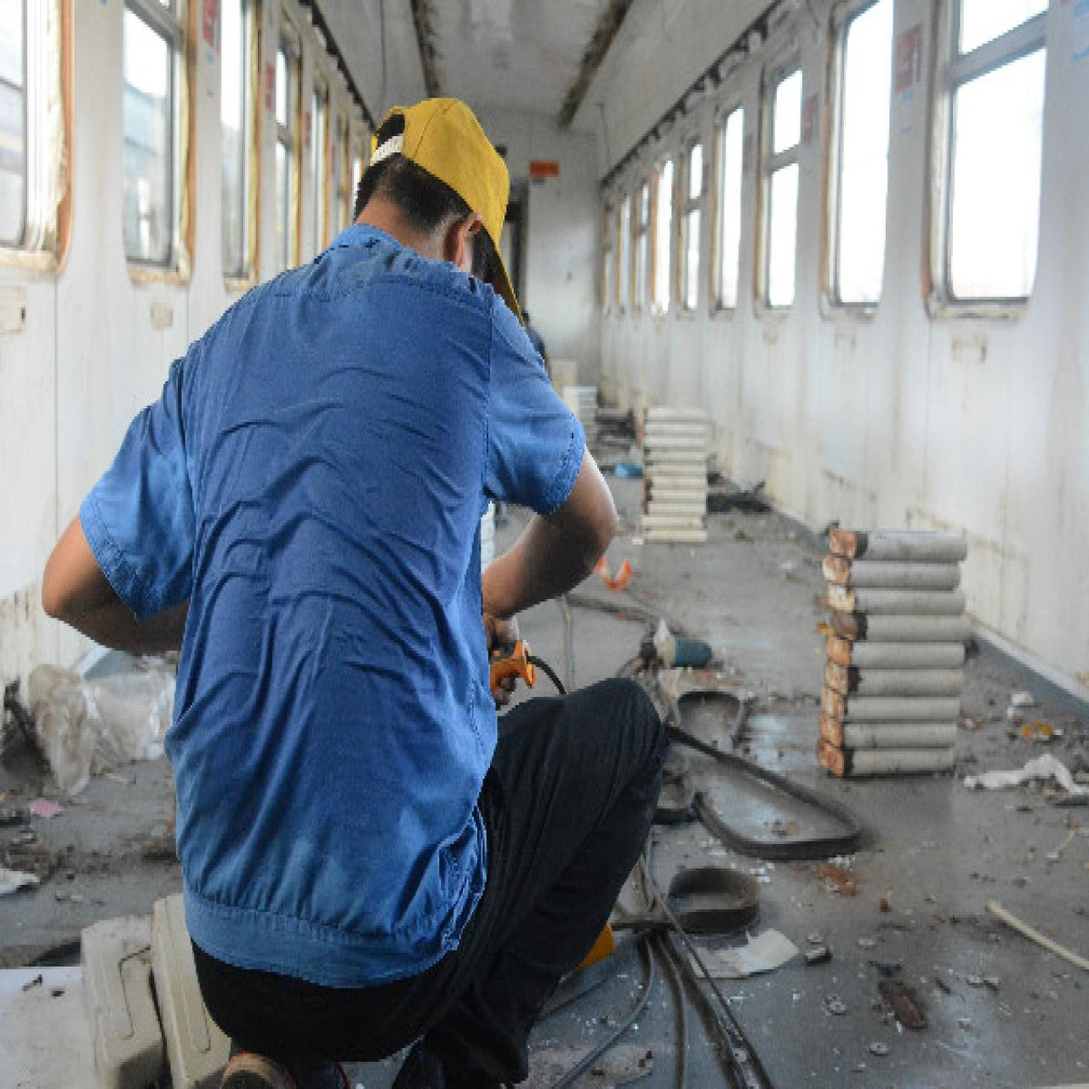NO_Safety_Vest: (177, 257, 483, 887)
Person: (40, 57, 673, 1086)
